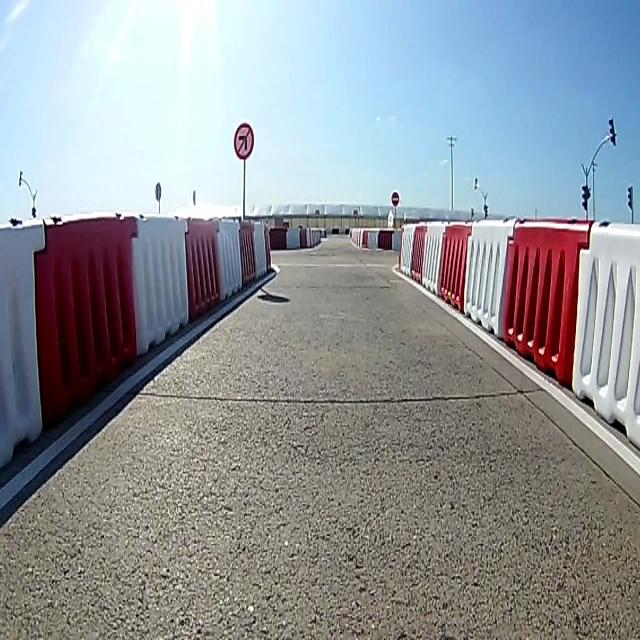girisyok: (390, 190, 401, 206)
soladonulmez: (234, 122, 252, 160)
